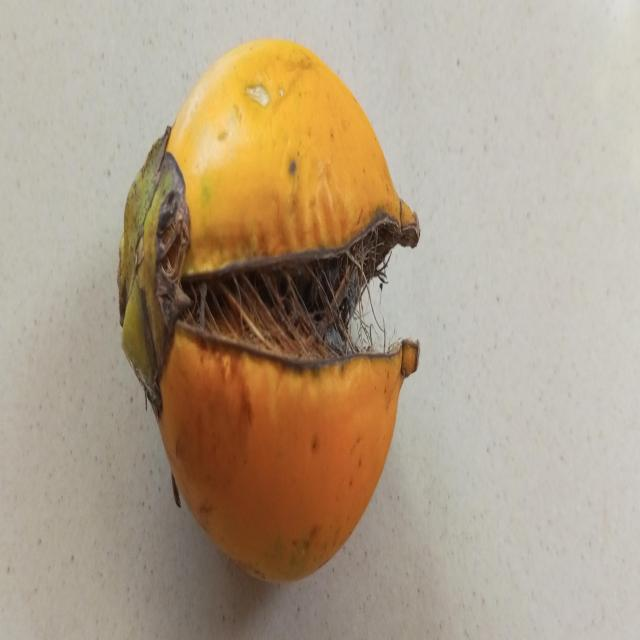damaged: (117, 39, 420, 581)
